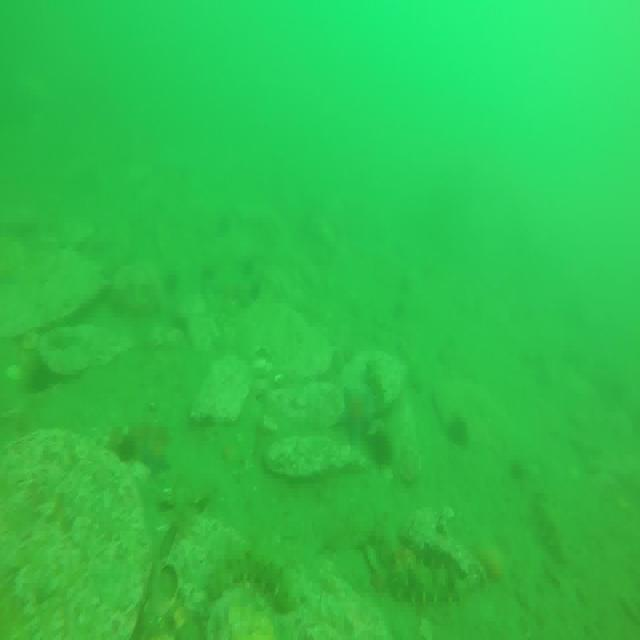echinus: (370, 427, 393, 465), (116, 433, 139, 462), (32, 358, 54, 383), (449, 416, 469, 442), (511, 455, 527, 481)
holothurian: (222, 552, 292, 612), (532, 486, 572, 566), (384, 561, 462, 602)
starfish: (335, 384, 381, 443)
